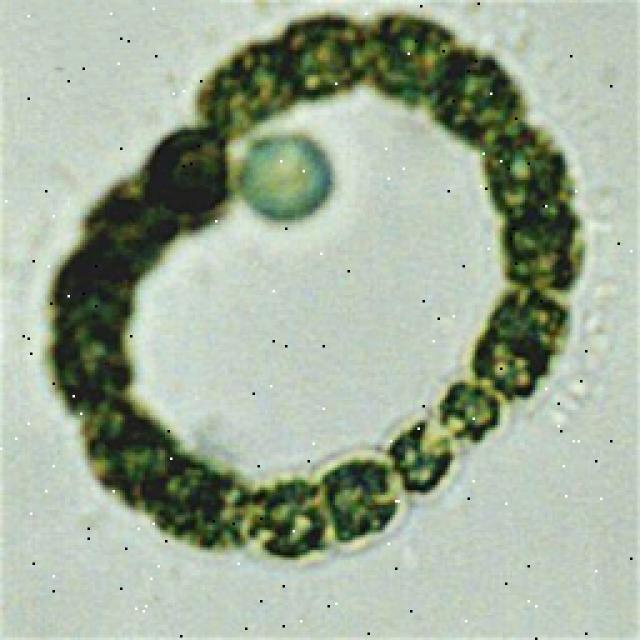Anabaena: (30, 11, 605, 567)
